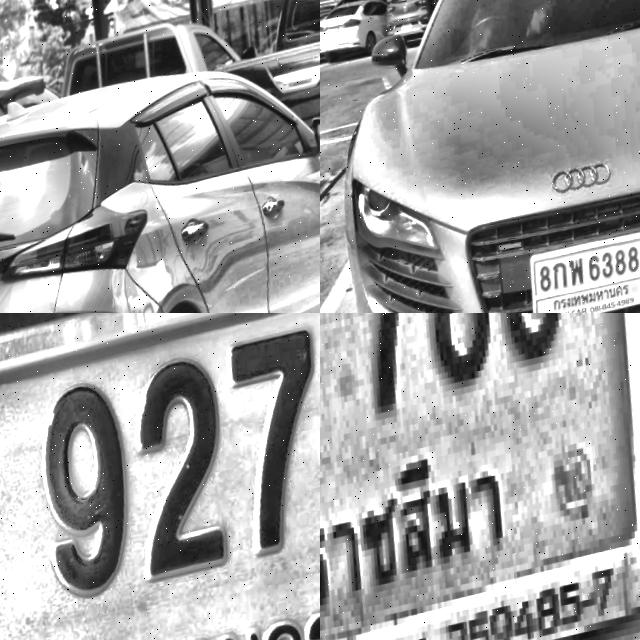license-plate: (0, 313, 320, 640), (320, 313, 640, 640), (527, 229, 640, 313), (401, 20, 415, 36), (328, 25, 341, 37)
